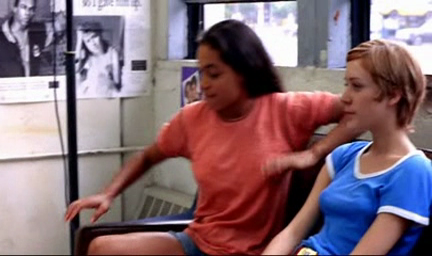face: (193, 45, 235, 111), (340, 60, 373, 134)
ms: (1, 1, 432, 256)
person: (63, 19, 370, 254), (259, 39, 432, 253)
